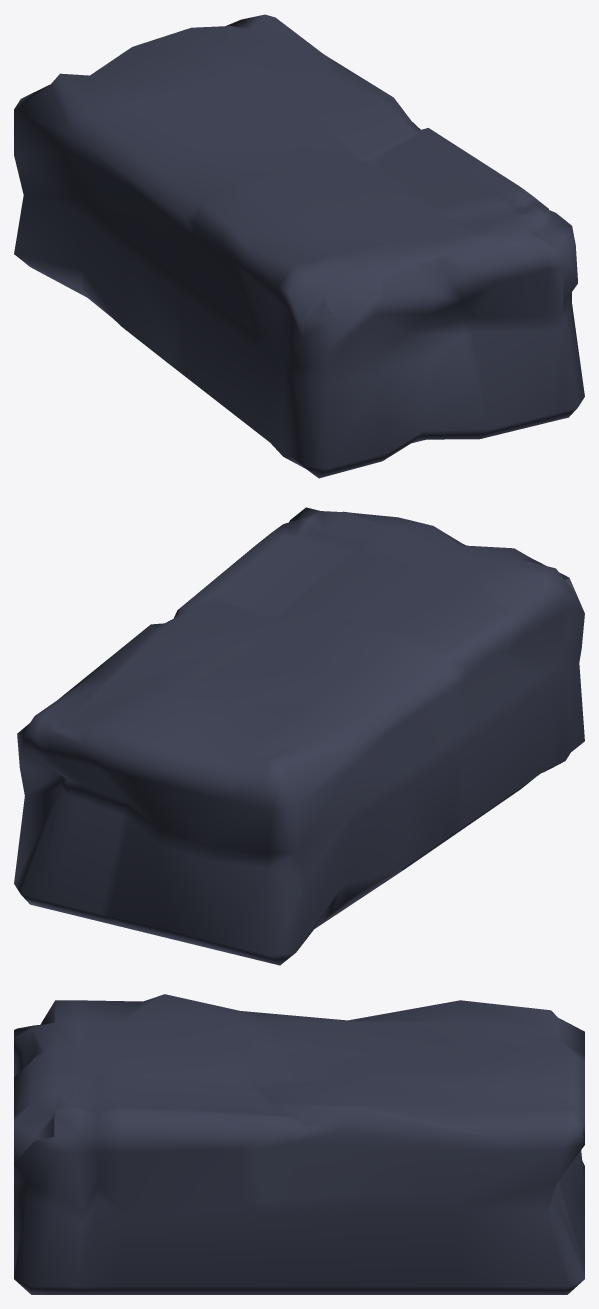
Rendered from brokenBrick_single_model.fbx.
3 renders of one model, top to bottom at view 1: azimuth 30°, elevation 25°; view 2: azimuth 150°, elevation 25°; view 3: azimuth 270°, elevation 25°, orthographic. The views are drawn at different scales.
Visible parts, largest first — view 1: brick_geo; view 2: brick_geo; view 3: brick_geo.
Part boxes in pixels (x1,y1,x2,y2): brick_geo: (14,14,584,478); brick_geo: (14,507,584,965); brick_geo: (14,994,584,1294).
Size of the model in its own units: 16.56 by 31.09 by 11.26.
